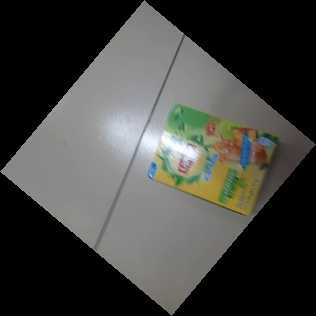LipTon: (143, 101, 284, 216)
